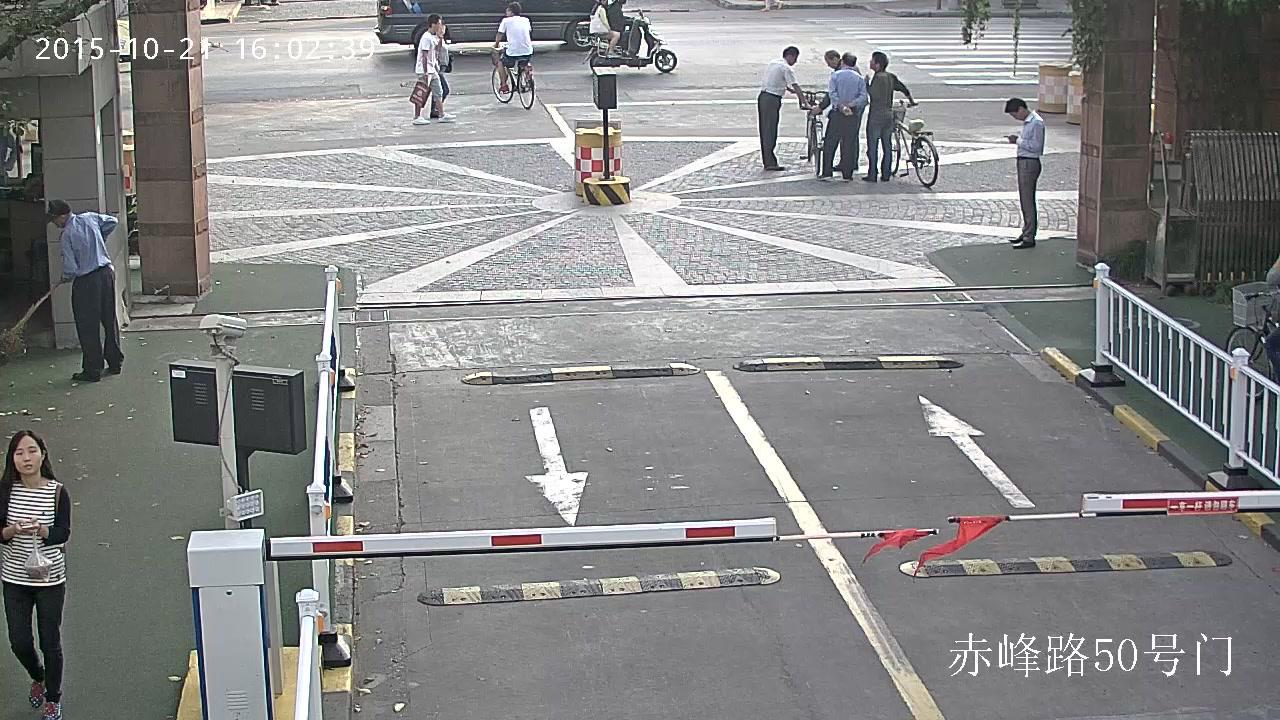face: (13, 435, 41, 475), (1010, 111, 1025, 120), (51, 219, 66, 227), (824, 60, 838, 68), (436, 25, 446, 36), (789, 55, 798, 65), (870, 54, 876, 69), (434, 19, 440, 30), (505, 7, 512, 16), (600, 0, 607, 3)
